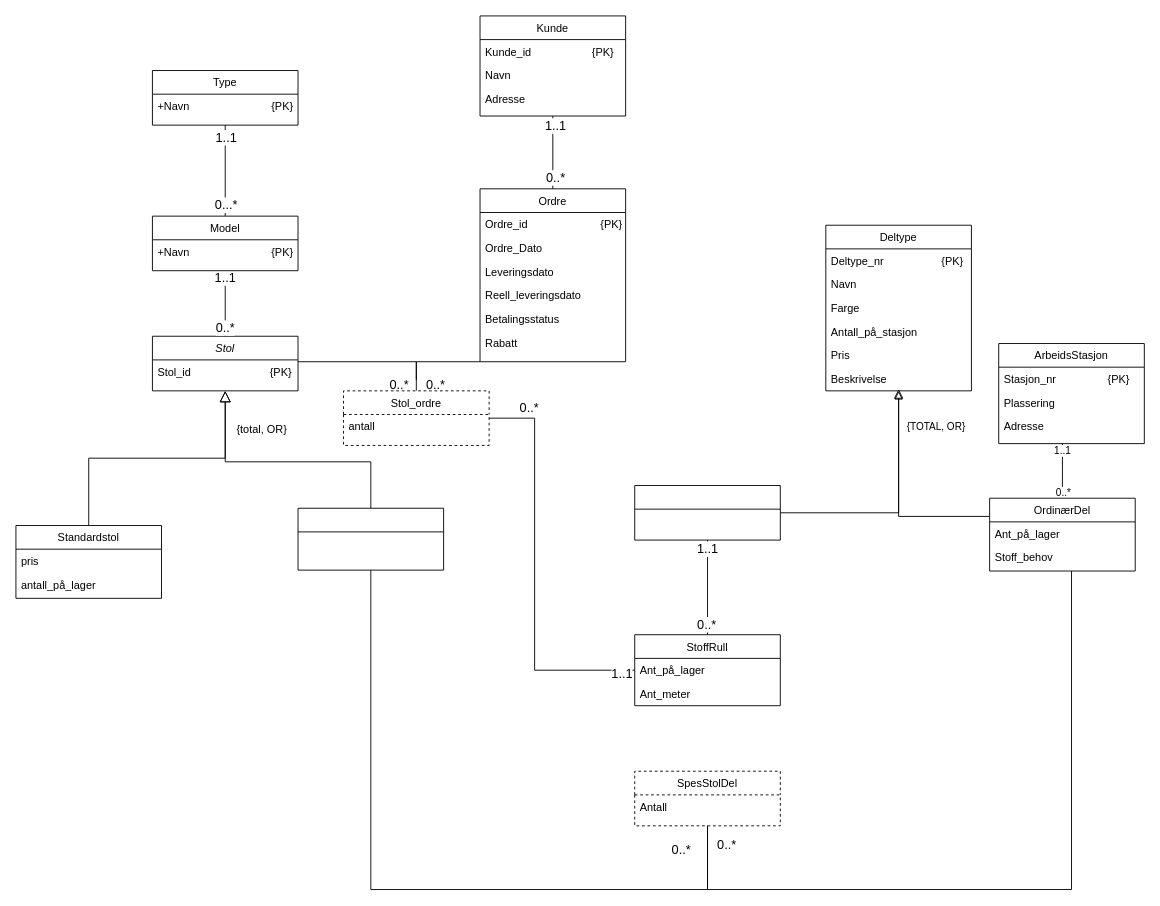
The diagram is 1160 pixels wide and 906 high, and some of its shapes have lost their labels. Here are the shapes that lost their labels. From the top down, the centre of each, then its label:
At (x=707, y=512): "Stoff".
At (x=370, y=538): "SpesielStol".
